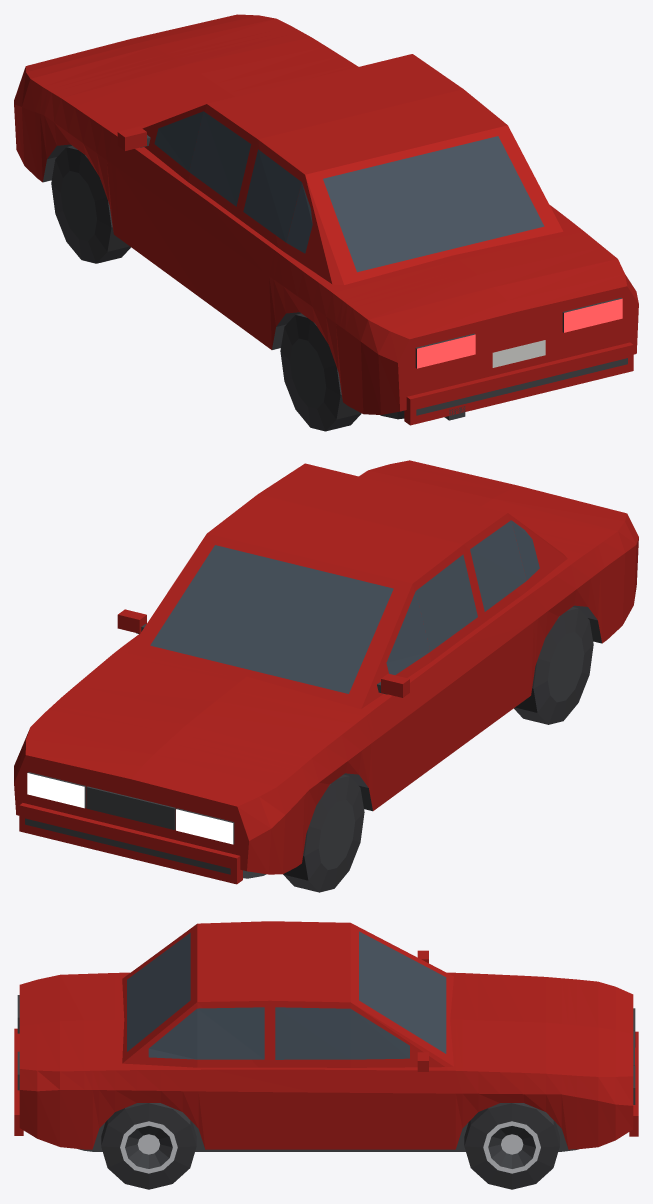
Rendered from sedan_lowpoly.glb.
The picture shows the model from 3 angles, top to bottom: view 1: azimuth 30°, elevation 25°; view 2: azimuth 150°, elevation 25°; view 3: azimuth 270°, elevation 25°; orthographic projection. The views are drawn at different scales.
Visible parts, largest first — view 1: Body, Wheel_RR, Wheel_FR; view 2: Body, Wheel_FR, Wheel_RR; view 3: Body, Wheel_FL, Wheel_RL.
Boxes of the visible parts, <box> form: Body: <box>14,14,638,425</box>; Wheel_RR: <box>280,313,361,431</box>; Wheel_FR: <box>51,145,130,263</box>; Body: <box>14,460,638,884</box>; Wheel_FR: <box>283,774,364,892</box>; Wheel_RR: <box>514,607,593,724</box>; Body: <box>14,921,638,1151</box>; Wheel_FL: <box>464,1103,559,1189</box>; Wheel_RL: <box>101,1103,196,1189</box>.
Bounding box in the file's own units: 1.94 × 1.48 × 4.65.
